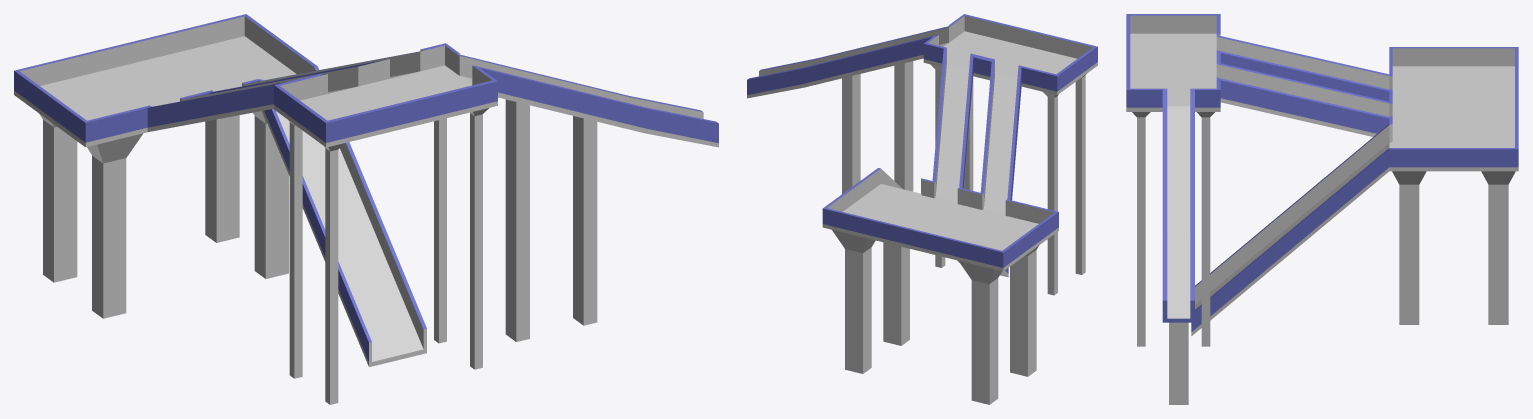
Rendered from Ramp1.fbx.
The picture shows the model from 3 angles, left to right: view 1: azimuth 30°, elevation 25°; view 2: azimuth 150°, elevation 25°; view 3: azimuth 270°, elevation 25°; orthographic projection. The views are drawn at different scales.
Visible parts, largest first — view 1: Curve1-Ramp; view 2: Curve1-Ramp; view 3: Curve1-Ramp.
Boxes of the visible parts, x1=… form: Curve1-Ramp: x1=14, y1=14, x2=718, y2=404; Curve1-Ramp: x1=747, y1=14, x2=1097, y2=404; Curve1-Ramp: x1=1126, y1=14, x2=1518, y2=404.
Bounding box in the file's own units: 2.68 × 1.46 × 1.98.
